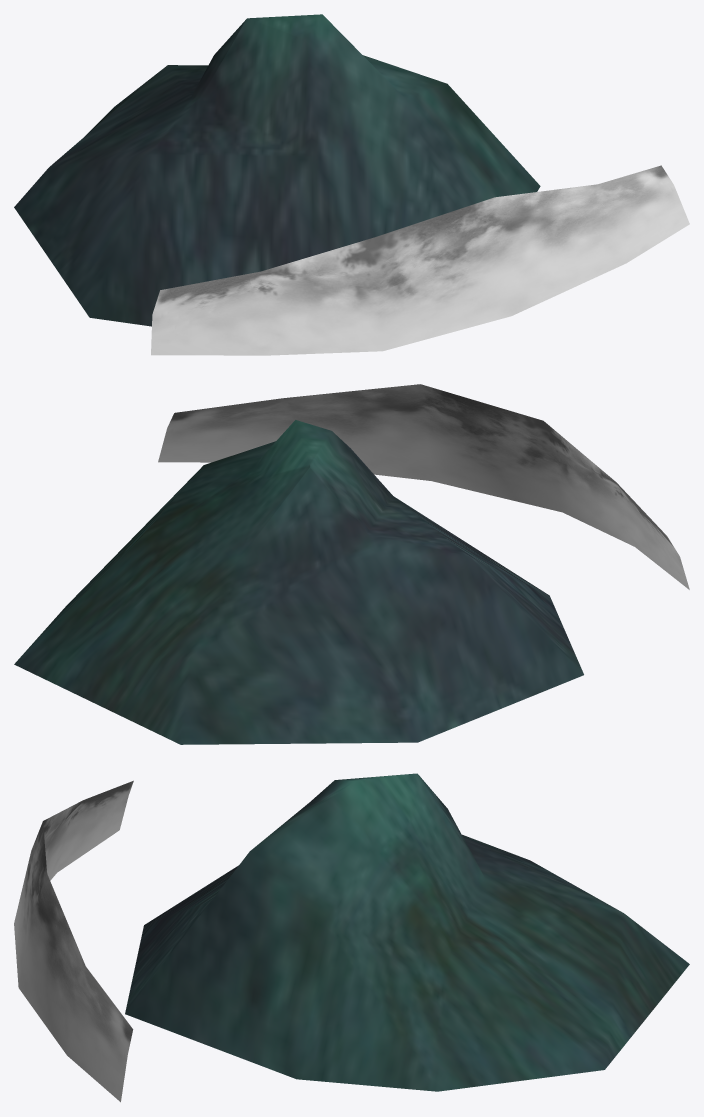
Rendered from pir_m_are_isl_mysterious_07_low.fbx.
3 views of the same model, one above another, from view 1: azimuth 30°, elevation 25°; view 2: azimuth 150°, elevation 25°; view 3: azimuth 270°, elevation 25° (orthographic). The views are drawn at different scales.
Visible parts, largest first — view 1: mountains_2, fog; view 2: mountains_2, fog; view 3: mountains_2, fog.
Part boxes in pixels (<box>): mountains_2: <box>14,14,540,326</box>; fog: <box>151,165,689,355</box>; mountains_2: <box>14,420,583,744</box>; fog: <box>158,384,689,589</box>; mountains_2: <box>125,773,689,1091</box>; fog: <box>14,780,133,1102</box>.
Bounding box in the file's own units: 392424 × 150868 × 413390.
Materials: 2 (2 with a texture image).
